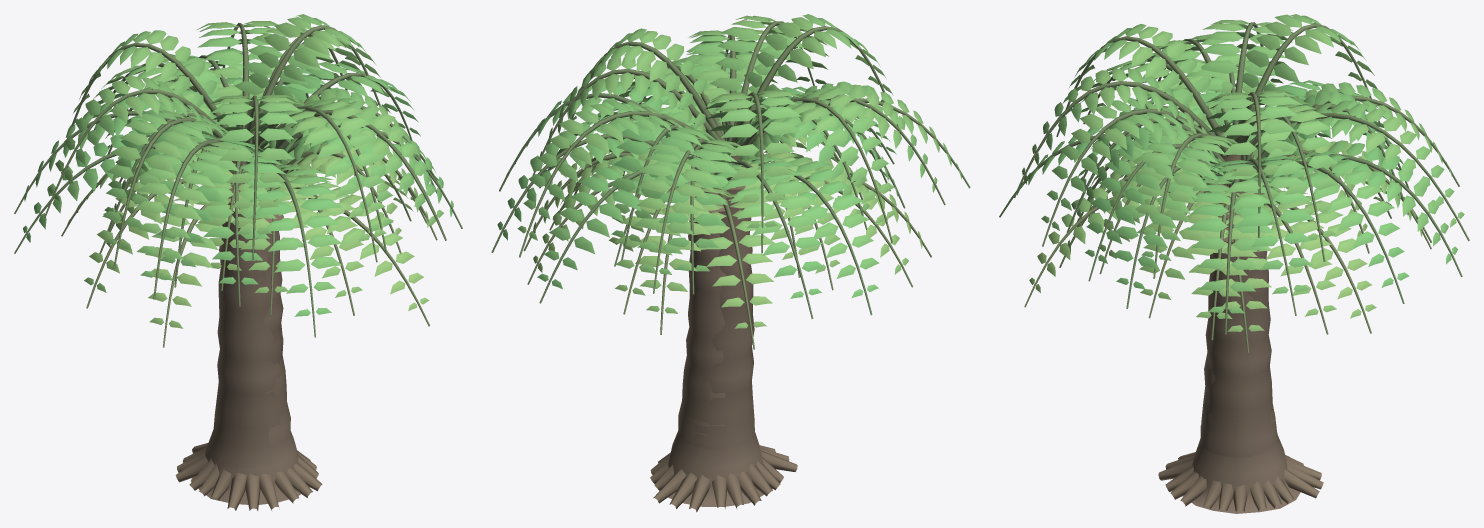
The model's file is tree-fern-library-original-v1.glb.
The picture shows the model from 3 angles, left to right: view 1: azimuth 30°, elevation 25°; view 2: azimuth 150°, elevation 25°; view 3: azimuth 270°, elevation 25°; orthographic projection.
Visible parts, largest first — view 1: tree-fern-attached-leaflets (×3), tree-fern-root-trunk (×3), tree-fern-load-bearing-rachises (×3); view 2: tree-fern-attached-leaflets (×3), tree-fern-root-trunk (×3), tree-fern-load-bearing-rachises (×3); view 3: tree-fern-attached-leaflets (×3), tree-fern-root-trunk (×3), tree-fern-load-bearing-rachises (×3).
Part boxes in pixels (x1,y1,x2,y2): tree-fern-attached-leaflets (×3): (23,14,453,328); tree-fern-root-trunk (×3): (175,160,322,510); tree-fern-load-bearing-rachises (×3): (14,23,462,347); tree-fern-attached-leaflets (×3): (497,14,961,328); tree-fern-root-trunk (×3): (650,156,797,512); tree-fern-load-bearing-rachises (×3): (491,21,970,349); tree-fern-attached-leaflets (×3): (1006,14,1464,331); tree-fern-root-trunk (×3): (1158,153,1323,513); tree-fern-load-bearing-rachises (×3): (999,22,1469,352).
Size of the model in its own units: 4.67 by 4.96 by 4.94.
